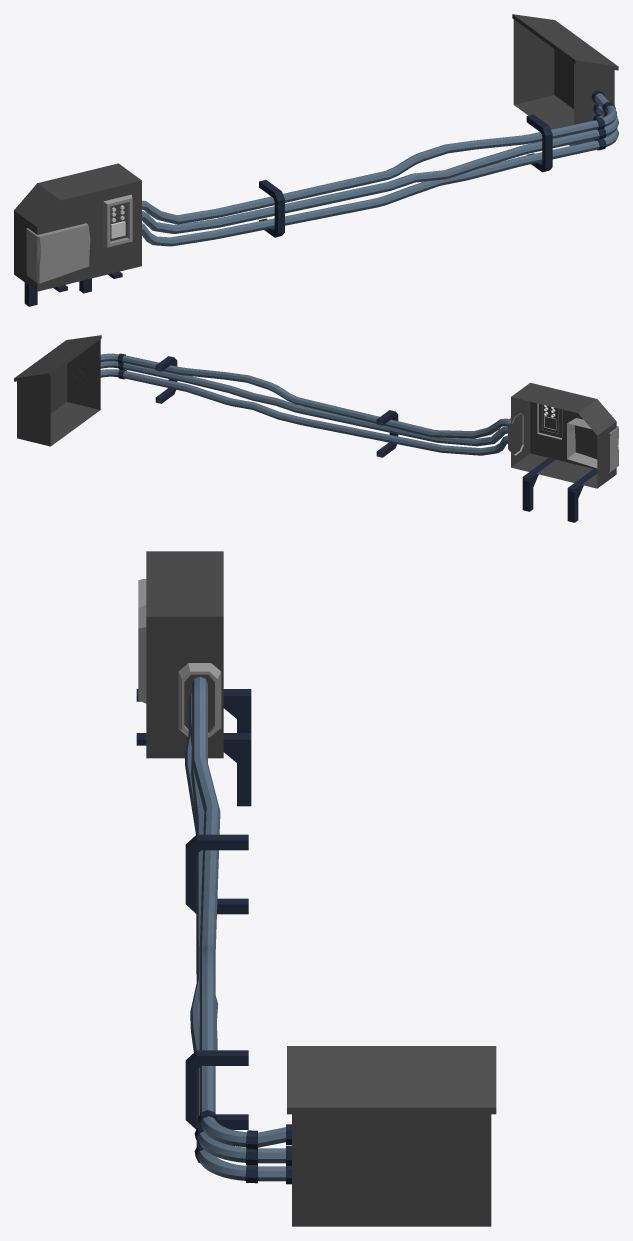
File: Blockout_Prop_Energycable_01.FBX
The picture shows the model from 3 angles, top to bottom: view 1: azimuth 30°, elevation 25°; view 2: azimuth 150°, elevation 25°; view 3: azimuth 270°, elevation 25°; orthographic projection. The views are drawn at different scales.
Parts seen in each view (by area): view 1: Blockout_Prop_Energycable_01; view 2: Blockout_Prop_Energycable_01; view 3: Blockout_Prop_Energycable_01.
Part boxes in pixels (<box>): Blockout_Prop_Energycable_01: <box>14,14,618,306</box>; Blockout_Prop_Energycable_01: <box>14,335,618,522</box>; Blockout_Prop_Energycable_01: <box>136,551,496,1226</box>.
Size of the model in its own units: 1503 by 288 by 453.
